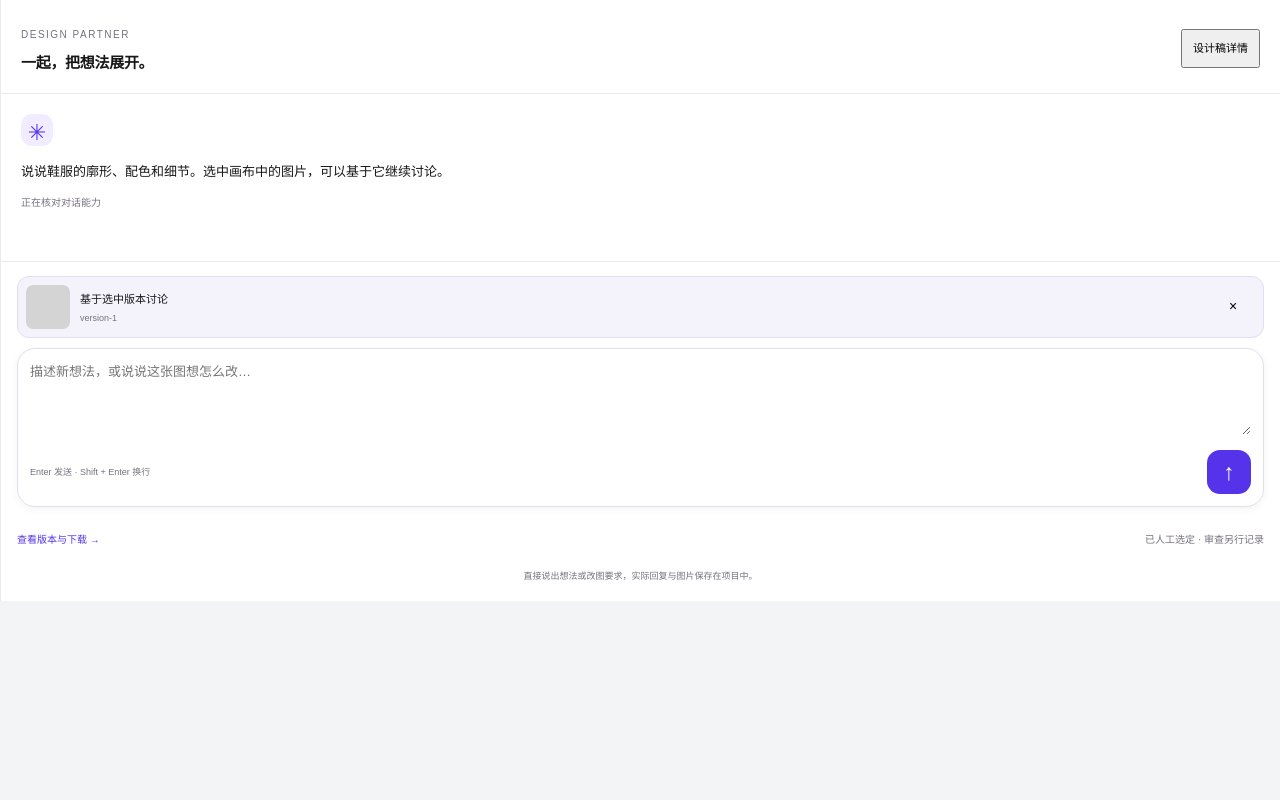
Test: 发送持久消息显式冻结选中图和当前prompt/spec；关闭模型显示系统通知
Type "改成浅蓝" into the text box named "告诉设计助手你的想法" at coordinates (640, 398), box [30, 361, 1251, 435]
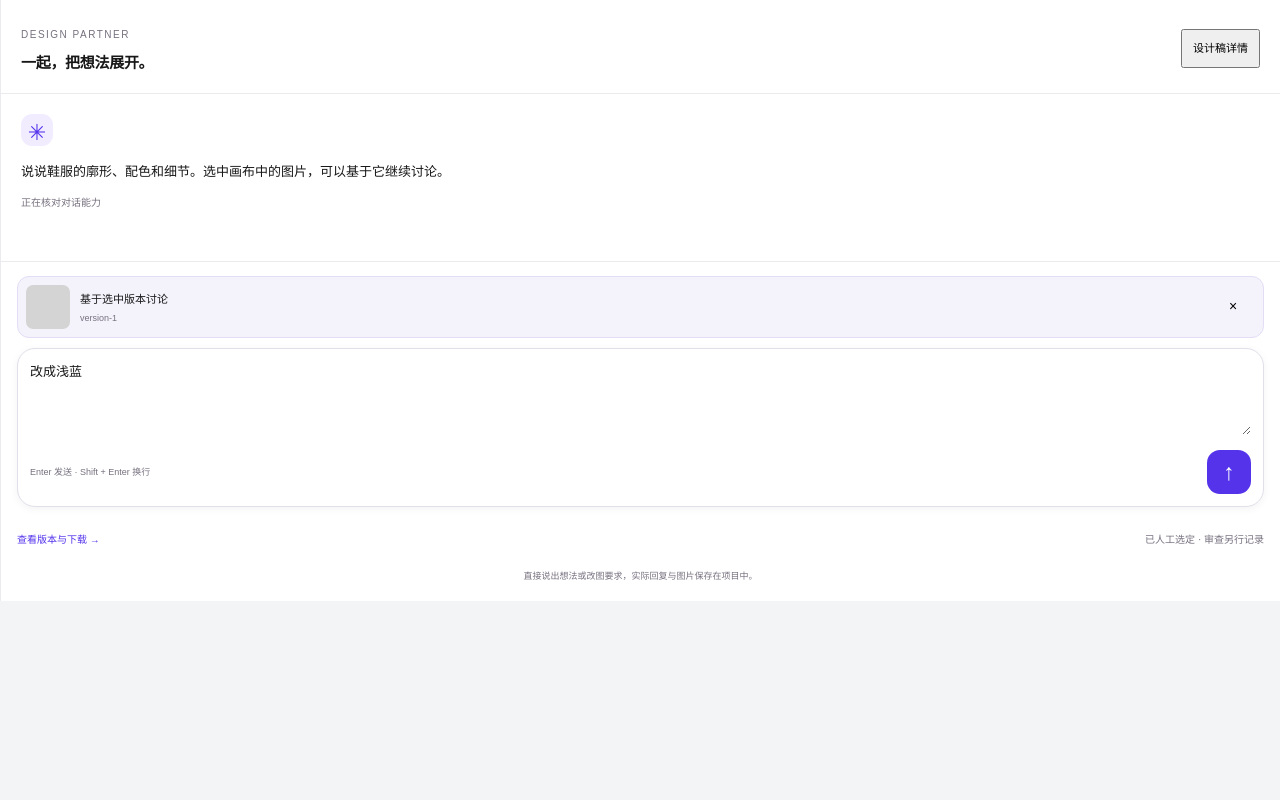
Click the button named "发送项目消息" at coordinates (1229, 472), box [1207, 450, 1251, 494]
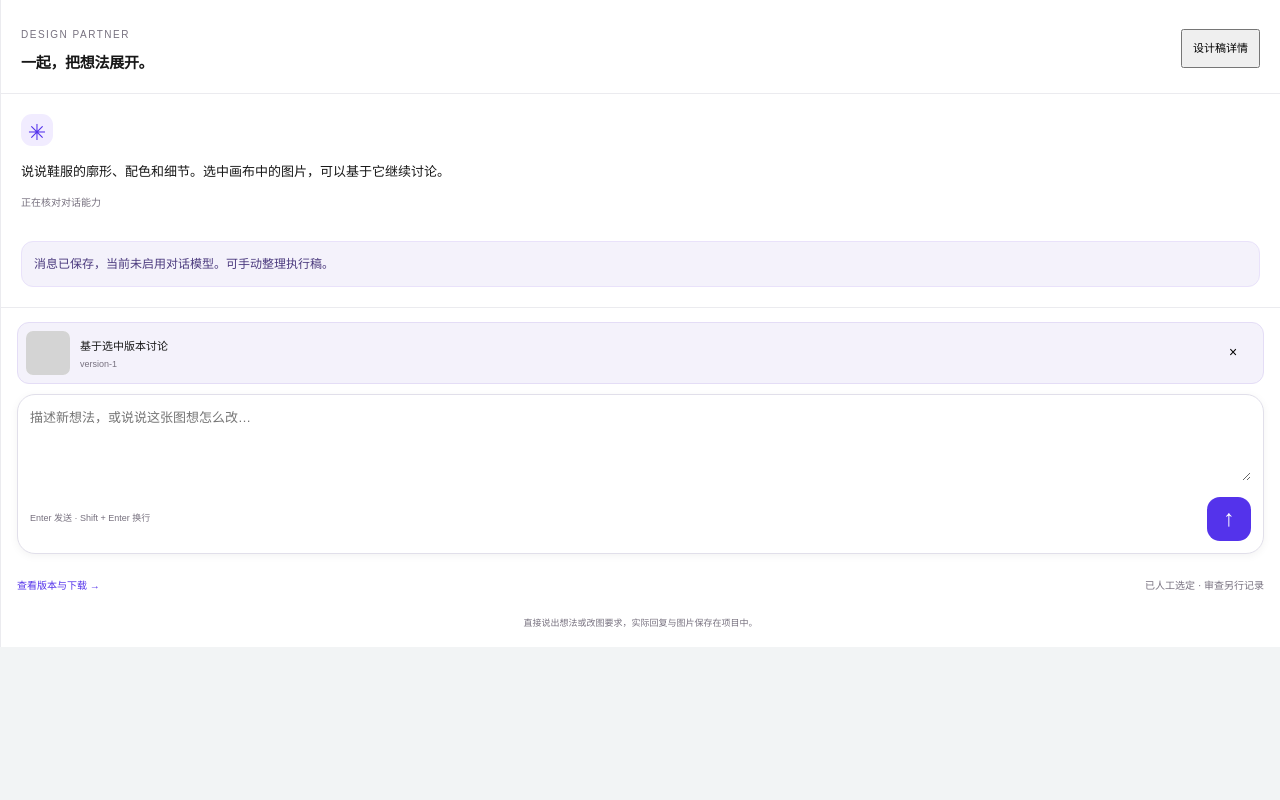
Now the text "消息已保存，当前未启用对话模型。可手动整理执行稿。" is shown, box [21, 241, 1260, 287]
